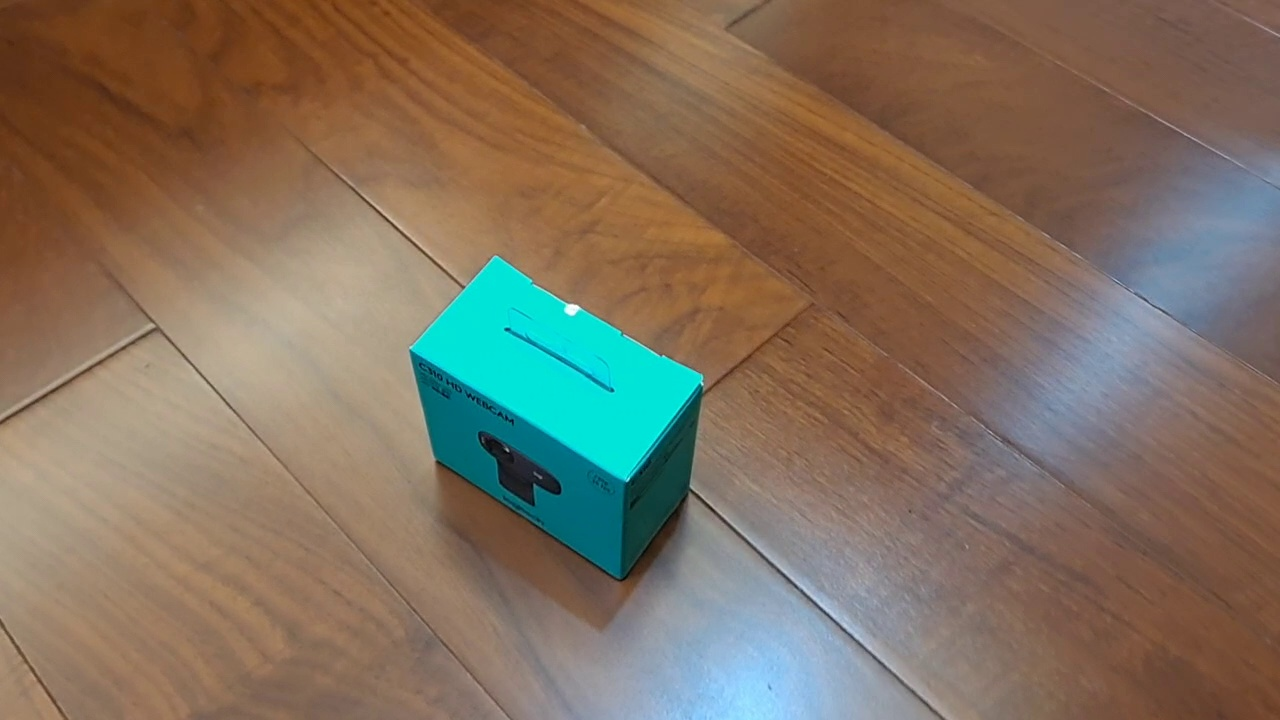webcam: (408, 254, 705, 583)
